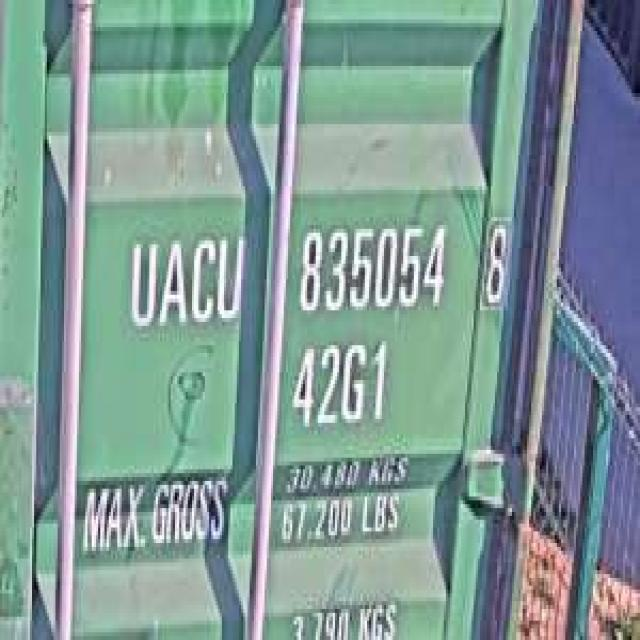dv: (478, 206, 512, 314)
owner: (124, 225, 245, 334)
serial: (290, 213, 448, 322)
size: (286, 334, 390, 438)
